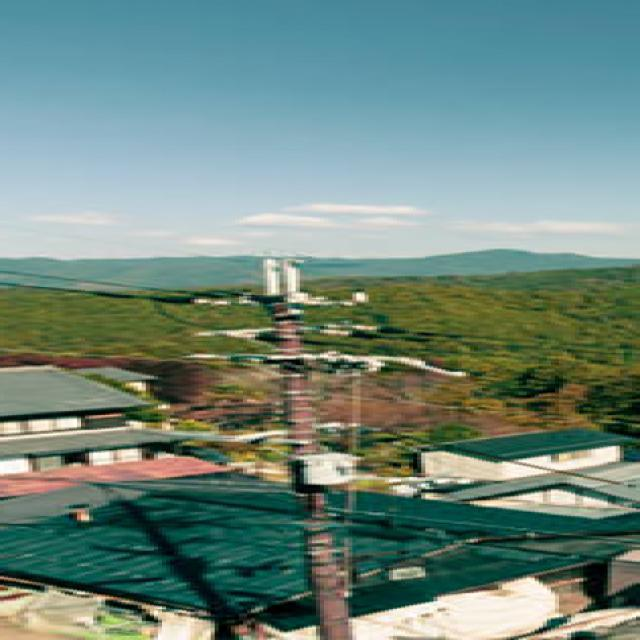pole: (178, 250, 460, 640)
